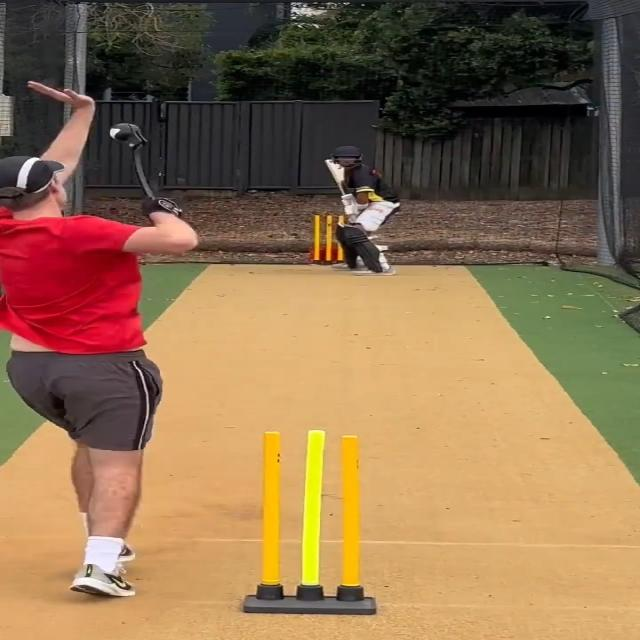stump: (241, 428, 375, 616), (310, 214, 346, 265)
